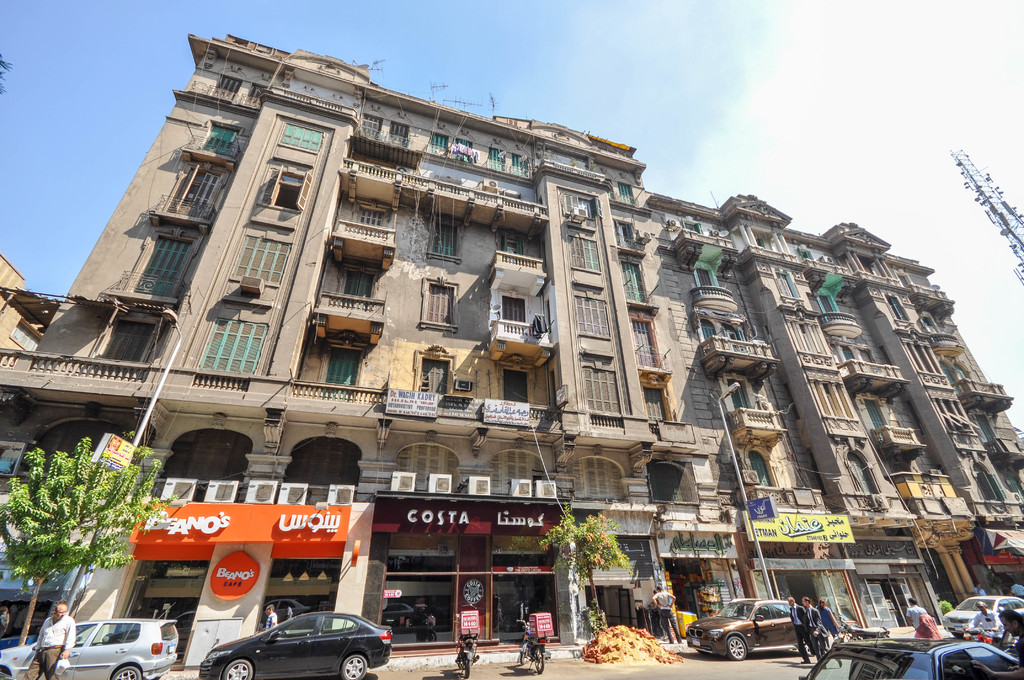Car: (789, 629, 1020, 679), (230, 612, 400, 676), (0, 617, 174, 679), (678, 594, 796, 660), (938, 592, 1023, 631)
